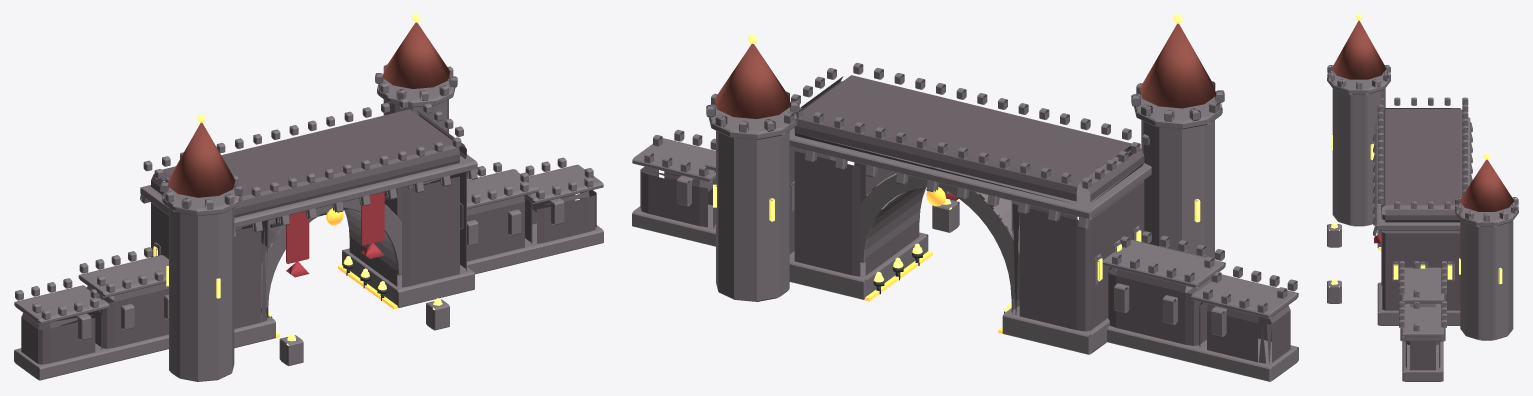
Rendered from castle.glb.
3 renders of one model, left to right at view 1: azimuth 30°, elevation 25°; view 2: azimuth 150°, elevation 25°; view 3: azimuth 270°, elevation 25°, orthographic. The views are drawn at different scales.
Parts seen in each view (by area): view 1: C_Stone, C_WallPaint, C_RoofPaint, C_Portrait, C_GhostWindow; view 2: C_Stone, C_WallPaint, C_RoofPaint, C_GhostWindow, C_WindowGlow; view 3: C_Stone, C_WallPaint, C_RoofPaint, C_WindowGlow.
Part boxes in pixels (left/top/right/bottom): C_Stone: left=14, top=64, right=603, bottom=381; C_WallPaint: left=21, top=109, right=596, bottom=369; C_RoofPaint: left=167, top=22, right=450, bottom=197; C_Portrait: left=286, top=192, right=384, bottom=277; C_GhostWindow: left=273, top=208, right=400, bottom=338; C_Stone: left=632, top=63, right=1298, bottom=381; C_WallPaint: left=640, top=75, right=1290, bottom=367; C_RoofPaint: left=714, top=23, right=1216, bottom=118; C_GhostWindow: left=861, top=187, right=1007, bottom=335; C_WindowGlow: left=713, top=184, right=1200, bottom=281; C_Stone: left=1327, top=65, right=1518, bottom=381; C_WallPaint: left=1381, top=108, right=1462, bottom=370; C_RoofPaint: left=1331, top=20, right=1514, bottom=211; C_WindowGlow: left=1331, top=134, right=1502, bottom=284.
Size of the model in its own units: 105 by 45.2 by 39.
